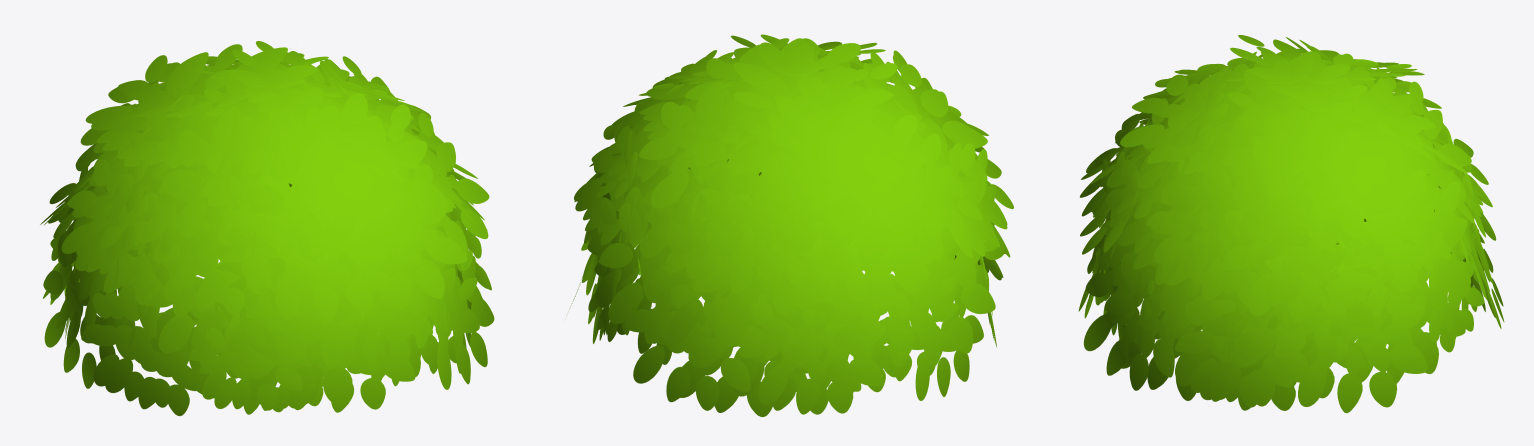
File: Bush.glb
3 renders of one model, left to right at view 1: azimuth 30°, elevation 25°; view 2: azimuth 150°, elevation 25°; view 3: azimuth 270°, elevation 25°, orthographic. The views are drawn at different scales.
Parts seen in each view (by area): view 1: Bush; view 2: Bush; view 3: Bush.
Boxes of the visible parts, <box> form: Bush: <box>40,41,494,416</box>; Bush: <box>566,34,1013,416</box>; Bush: <box>1078,35,1504,413</box>.
Bounding box in the file's own units: 1.09 × 0.6916 × 1.05.
Materials: 1 (1 with a texture image).
